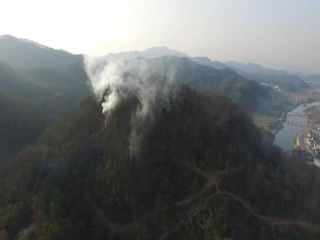smoke: (81, 49, 190, 140)
